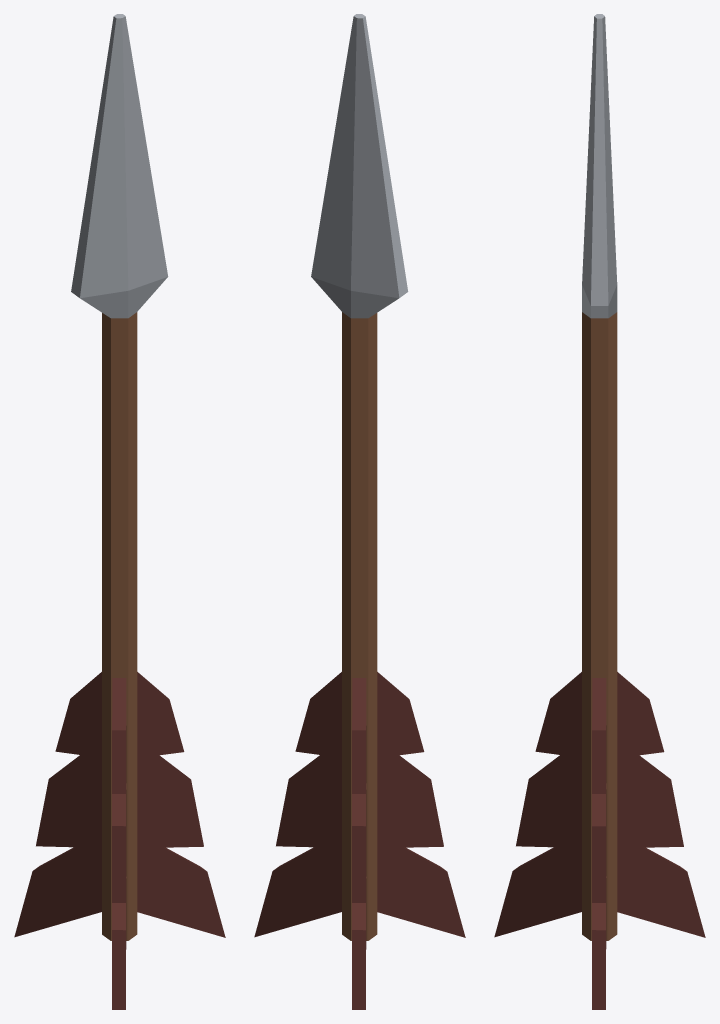
The model's file is SM_Dart.fbx.
The picture shows the model from 3 angles, left to right: view 1: azimuth 30°, elevation 25°; view 2: azimuth 150°, elevation 25°; view 3: azimuth 270°, elevation 25°; orthographic projection.
Parts seen in each view (by area): view 1: SM_Dart; view 2: SM_Dart; view 3: SM_Dart.
Boxes of the visible parts, x1,y1,x2,y2 form: SM_Dart: (14,14,225,1009); SM_Dart: (254,14,465,1009); SM_Dart: (494,14,705,1009).
Size of the model in its own units: 12.69 by 71.91 by 14.6.
